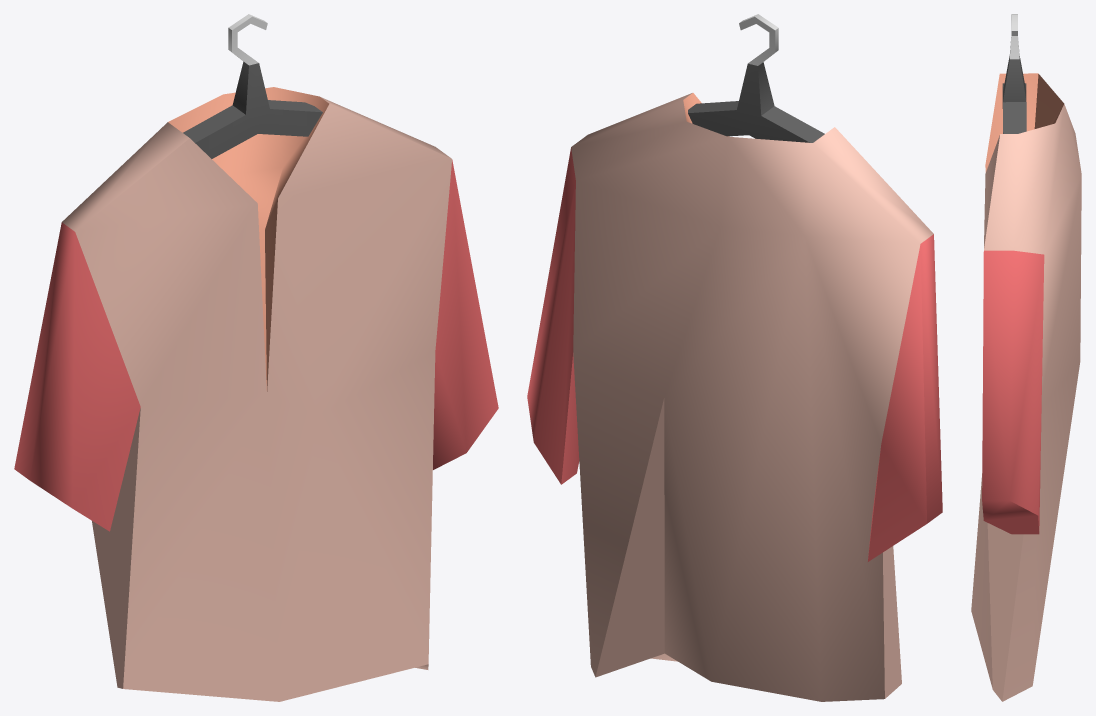
The model's file is clothes_016.glb.
The picture shows the model from 3 angles, left to right: view 1: azimuth 30°, elevation 25°; view 2: azimuth 150°, elevation 25°; view 3: azimuth 270°, elevation 25°; orthographic projection. The views are drawn at different scales.
Visible parts, largest first — view 1: clothes_016; view 2: clothes_016; view 3: clothes_016.
Part boxes in pixels (x1,y1,x2,y2): clothes_016: (14,14,498,701); clothes_016: (527,14,942,701); clothes_016: (971,14,1081,701).
Bounding box in the file's own units: 0.6023 × 0.9203 × 0.1504.
Materials: 1 (1 with a texture image).
